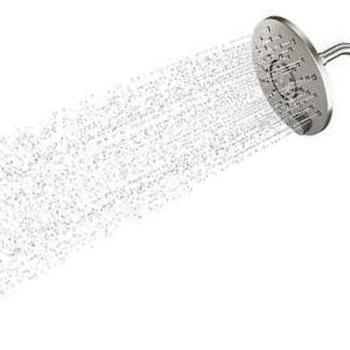Ducha: (0, 0, 349, 280)
